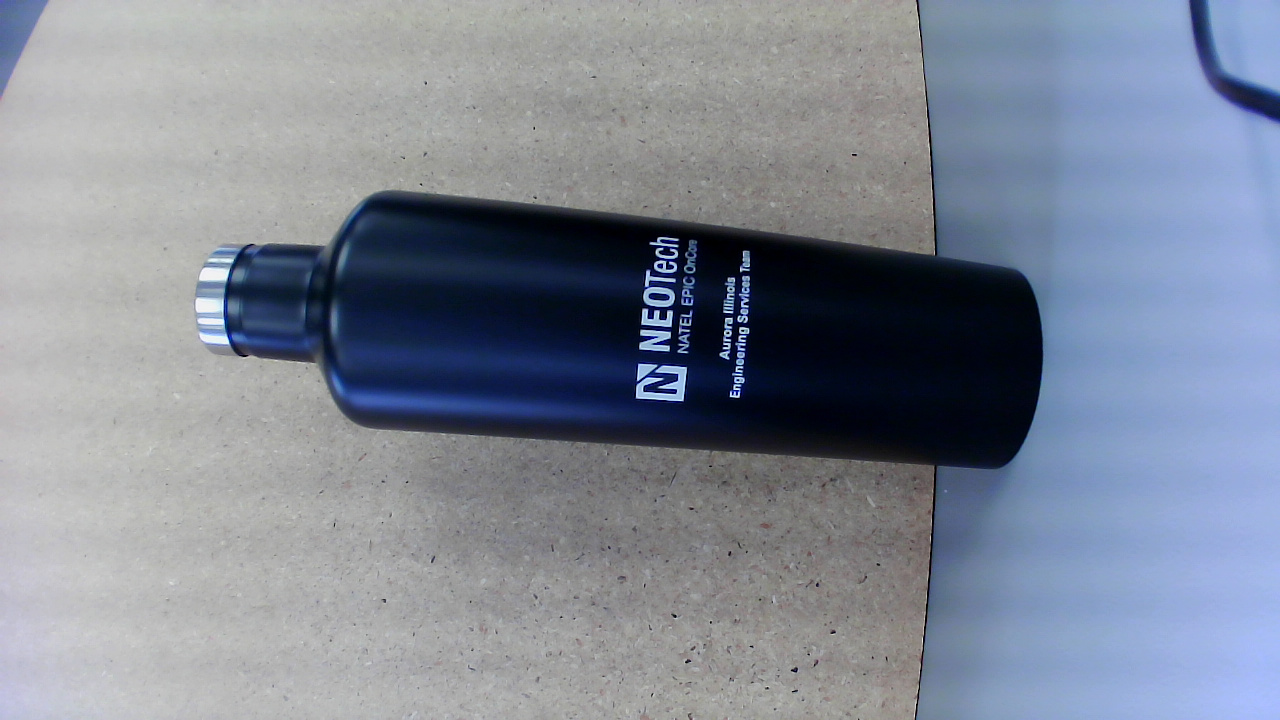neobottle: (182, 183, 1047, 486)
